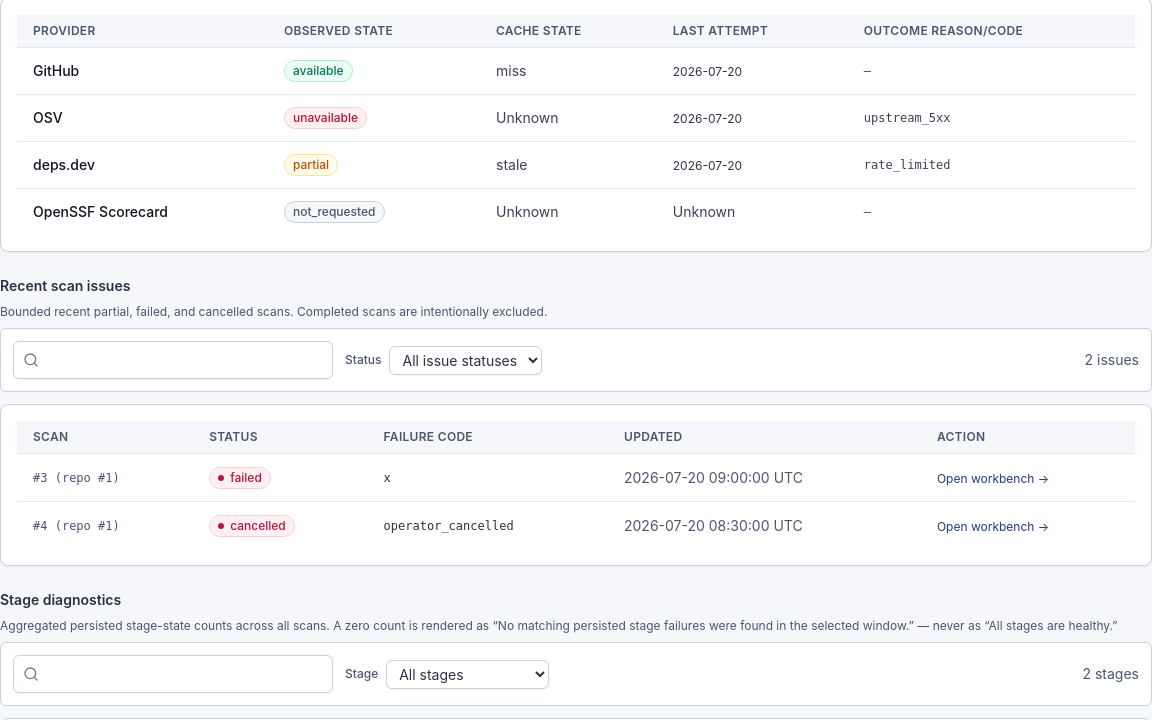
Test: diagnostics v1.9 - recent scan issues › filters issues by status
This screenshot has width=1152, height=720.
(page scrolled)
Expected: the row with test id "diagnostics-issue-row-3" is shown, [17, 454, 1135, 502]
Step 1. Select "Cancelled" in the dropdown labelled "Status" → (466,360), box [390, 346, 542, 374]
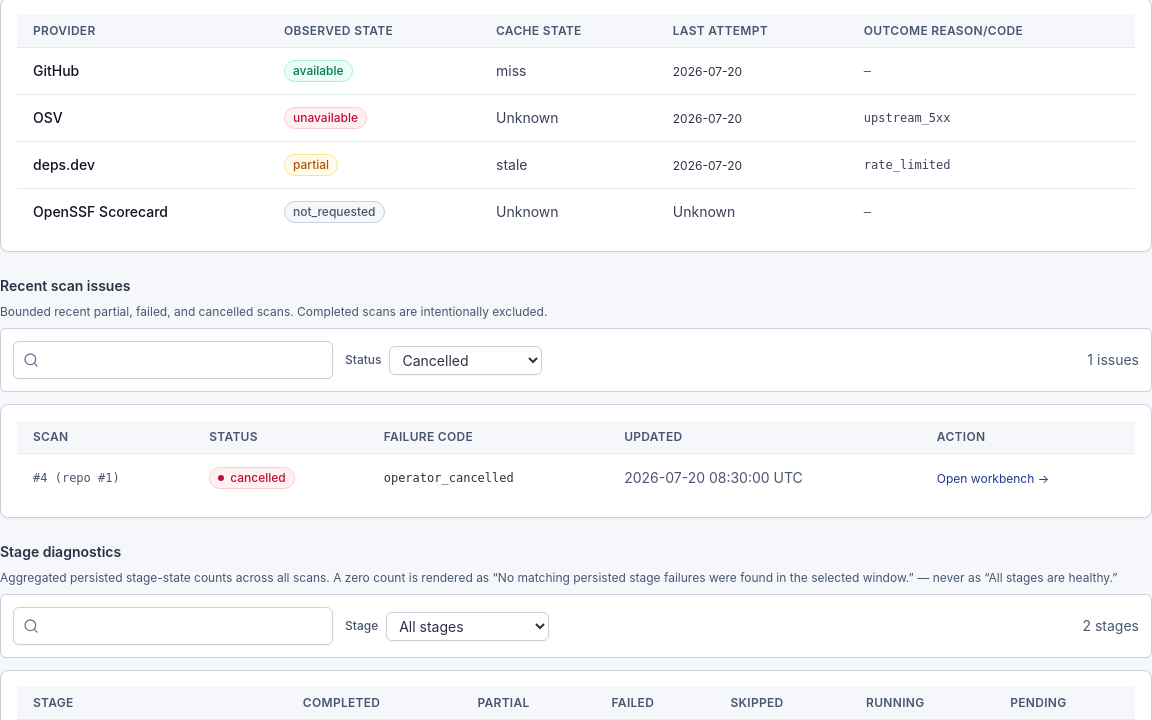
Expected: the row with test id "diagnostics-issue-row-4" is shown, [17, 454, 1135, 501]
Expected: the row with test id "diagnostics-issue-row-3" is gone
